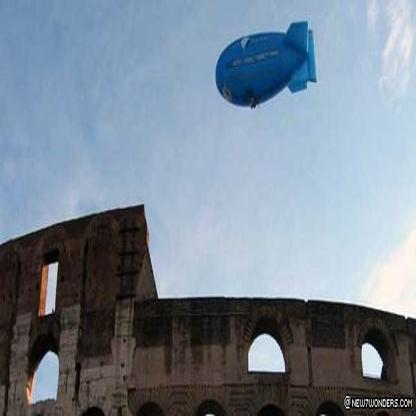Airship: (213, 19, 325, 113)
